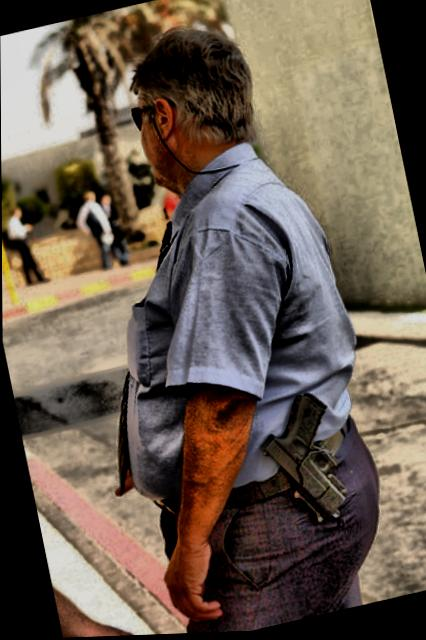pistol: (245, 386, 353, 538)
